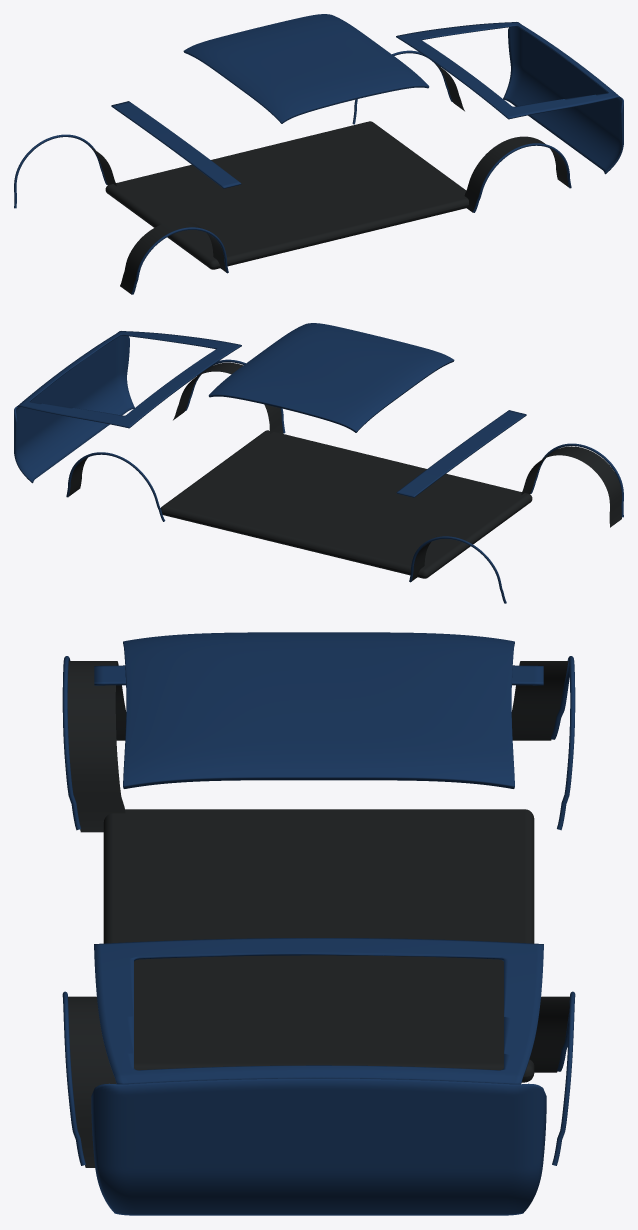
The model's file is body-2.glb.
3 views of the same model, one above another, from view 1: azimuth 30°, elevation 25°; view 2: azimuth 150°, elevation 25°; view 3: azimuth 270°, elevation 25° (orthographic). The views are drawn at different scales.
Parts seen in each view (by area): view 1: p3565, p0935, p3680, p3674, p2140, p2192, p2191, p3560, p3561, p3562; view 2: p3565, p0935, p3680, p3674, p2140, p2191, p2192, p3562, p3563, p3560; view 3: p3565, p3680, p0935, p3674, p2191, p2192, p2193, p2194, p3562, p2140, p3563, p3561 (+1 smaller).
Part boxes in pixels (x1,y1,x2,y2): p3565: (105,121,468,269); p0935: (183,14,429,123); p3680: (503,22,623,174); p3674: (396,22,620,119); p2140: (111,101,241,188); p2192: (464,136,568,212); p2191: (120,220,226,294); p3560: (131,227,228,294); p3561: (472,143,571,212); p3562: (14,134,107,208); p3565: (160,430,532,578); p0935: (208,323,454,432); p3680: (14,331,134,483); p3674: (17,331,241,428); p2140: (396,410,526,497); p2191: (521,446,621,527); p2192: (173,362,283,433); p3562: (409,536,506,603); p3563: (66,452,165,521); p3560: (530,443,623,517); p3565: (103,809,534,1082); p3680: (91,1078,546,1215); p0935: (123,632,514,788); p3674: (94,938,543,1084); p2191: (67,661,126,832); p2192: (68,996,116,1167); p2193: (511,661,568,740); p2194: (529,996,569,1072); p3562: (551,656,575,830); p2140: (94,665,543,685); p3563: (552,991,575,1165); p3561: (62,991,85,1165).
Size of the model in its own units: 3.98 by 1.06 by 1.77.
